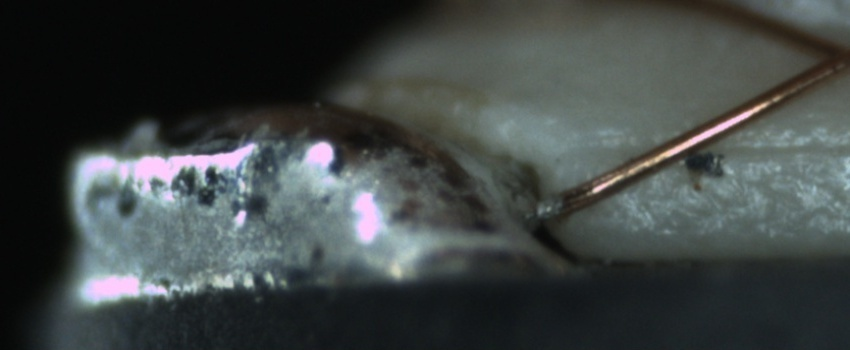CL: (795, 23, 850, 88)
DL: (610, 117, 850, 183)
